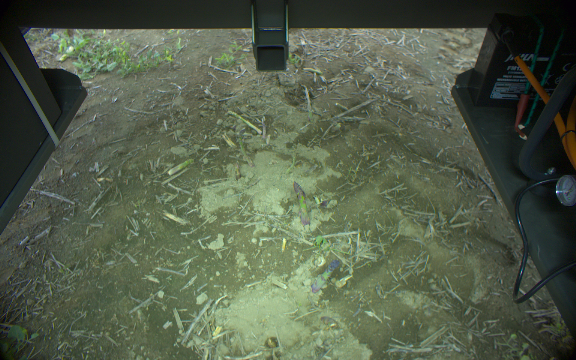aspa: (312, 257, 339, 293), (293, 181, 311, 229)
